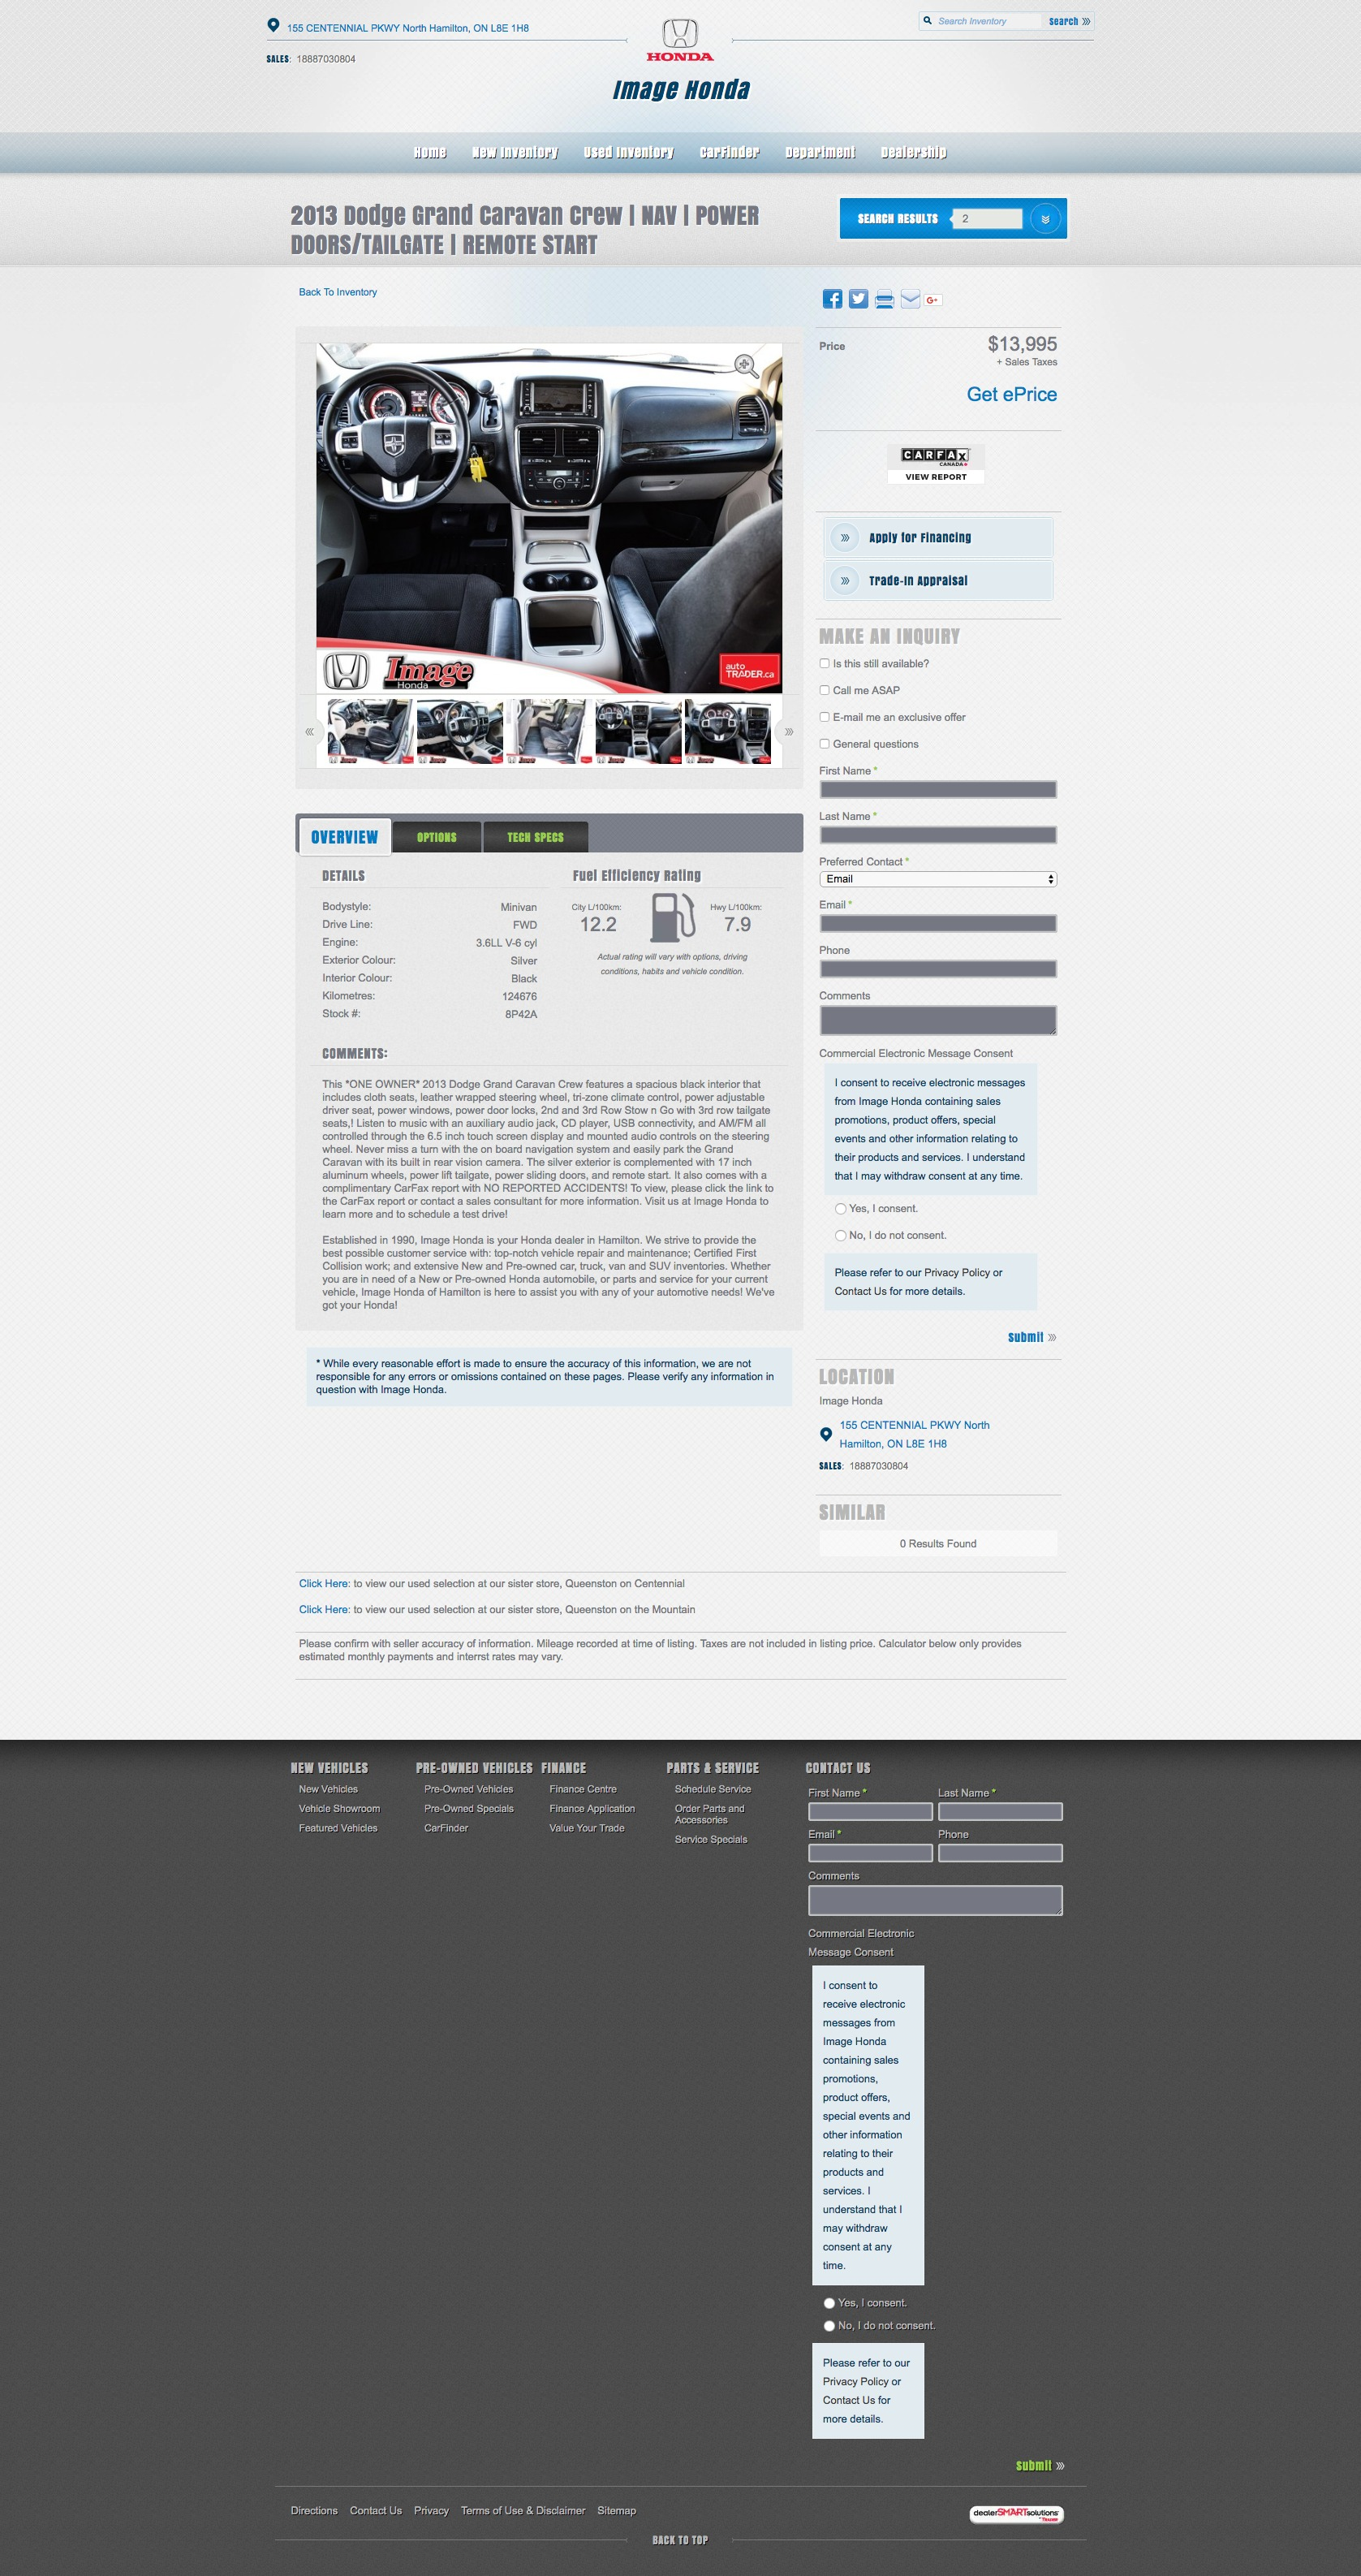car: (785, 727, 794, 738)
